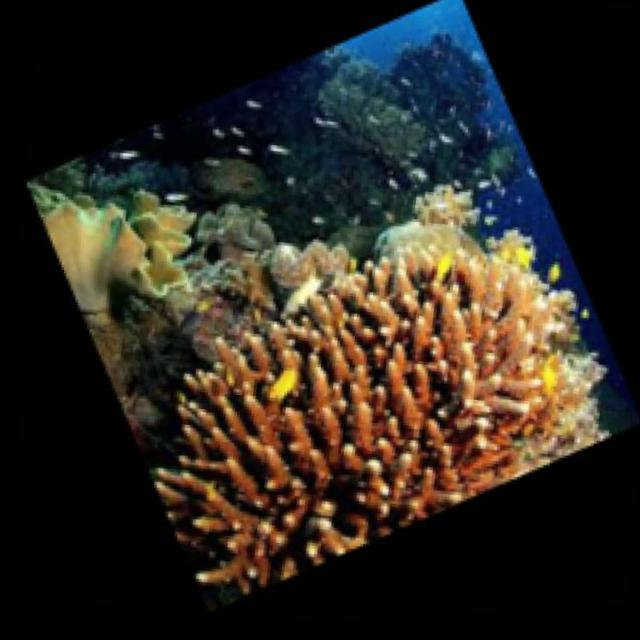Dead Coral: (289, 24, 525, 218)
